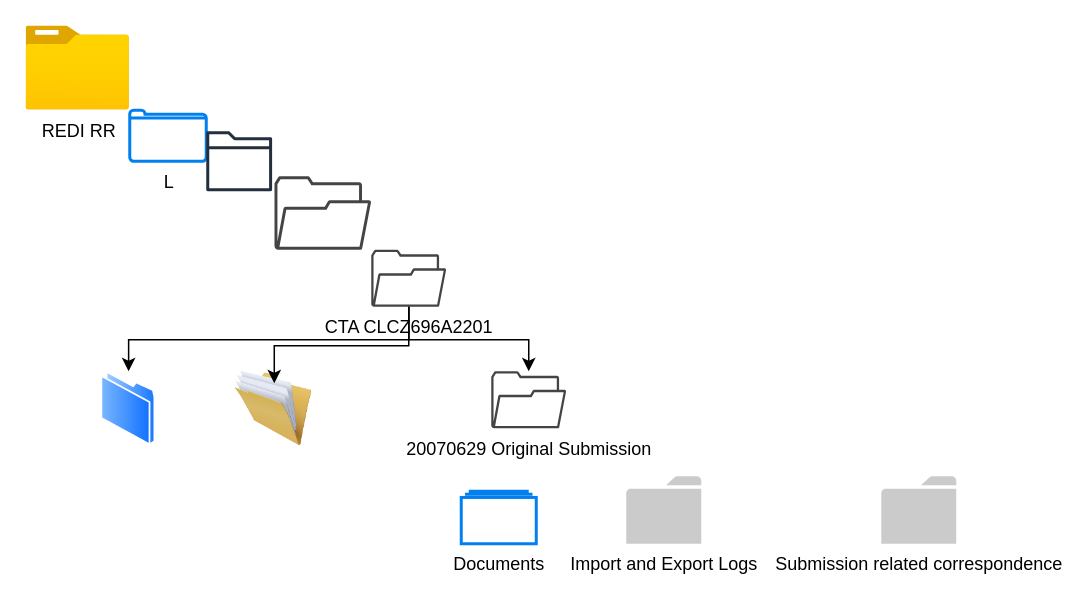
This 1088x600 diagram has some shape labels left out. Here are the shapes that lost their labels. From the top down, the centre of each, then its label:
At (238,160): "LCZ696".
At (322,212): "/-HQ-BS".
At (127,408): "/-Application related Correspondence from HA".
At (273,408): "Receipts".
